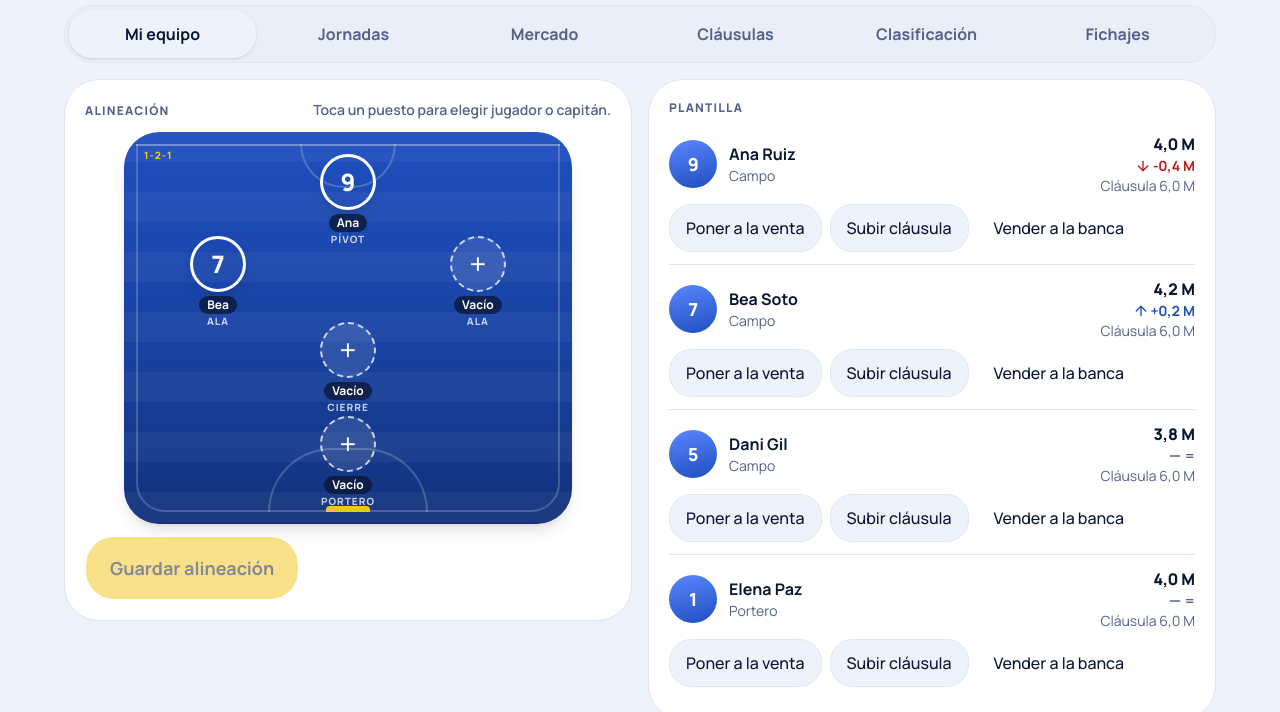
Test: Mi equipo: vender › pone a la venta con precio mínimo en millones
(page scrolled)
Click the button "Poner a la venta" below "Dani Gil" at (745, 518), box top-left (669, 494), bottom-right (822, 542)
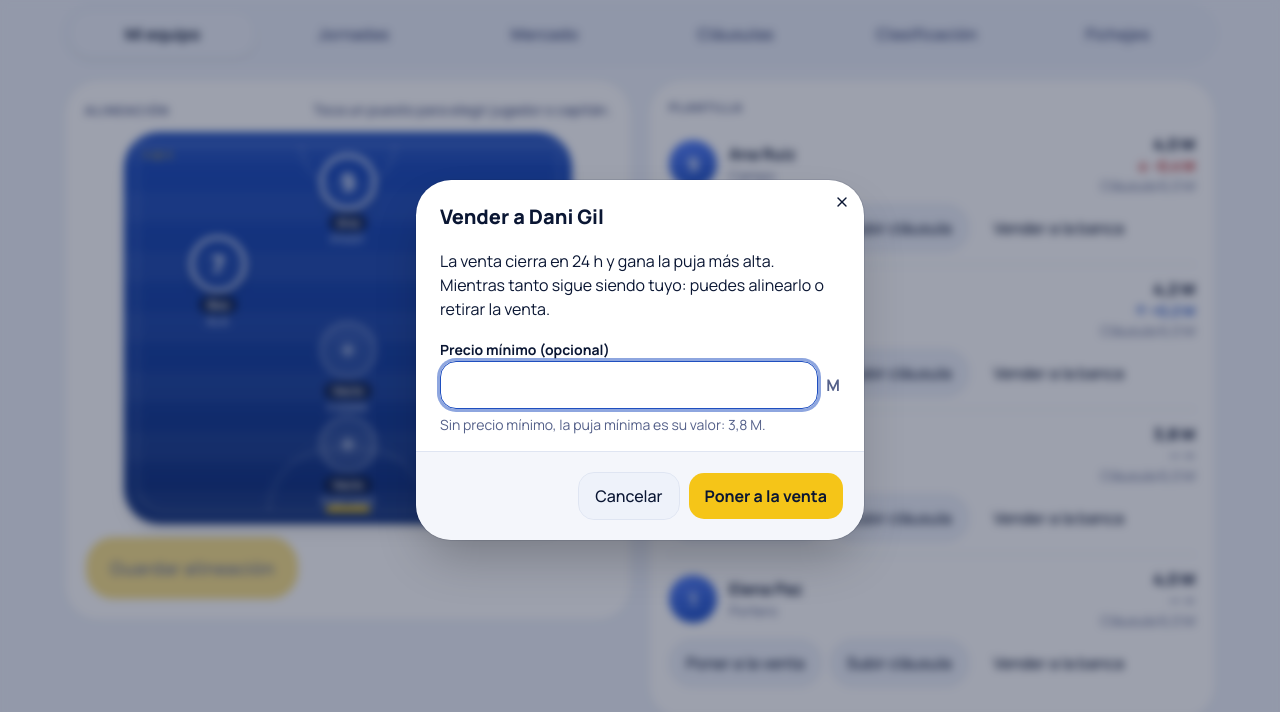
Type "5" into the field labelled "Precio mínimo (opcional)" at (629, 385), box top-left (440, 361), bottom-right (818, 409)
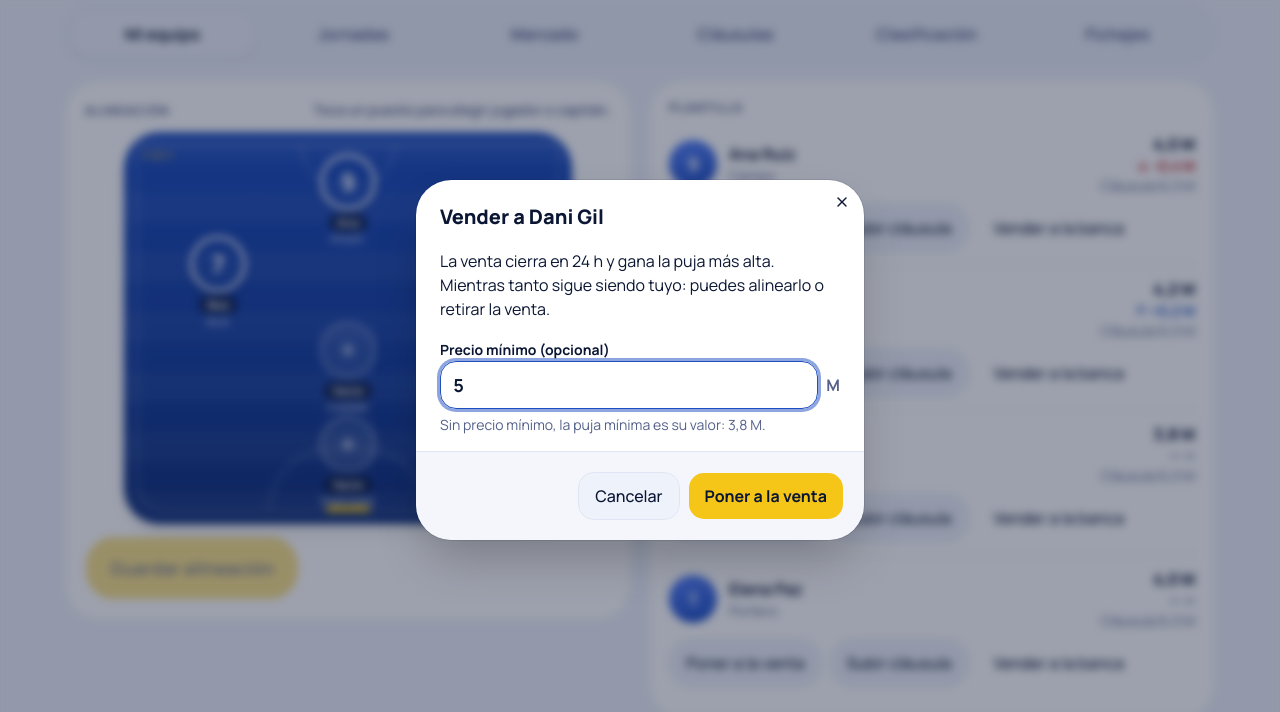
Click the button "Poner a la venta" at (766, 496), box top-left (688, 472), bottom-right (844, 520)
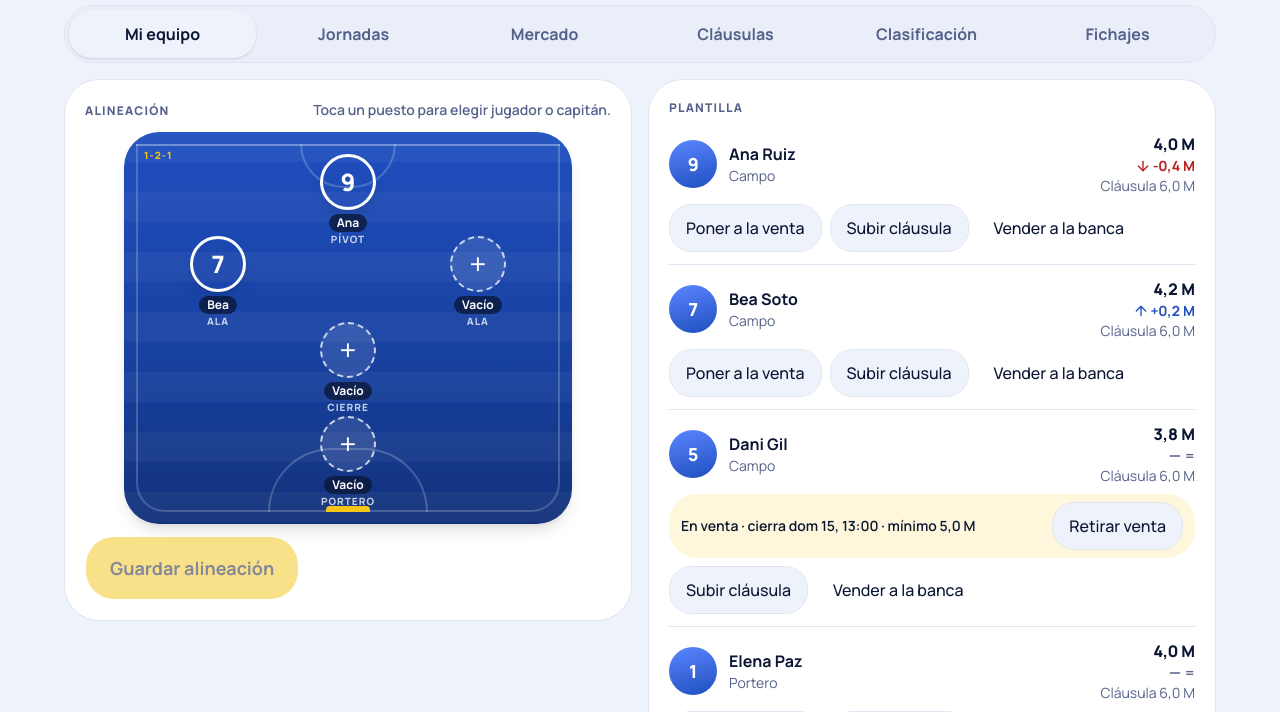
Expected: the text "En venta · cierra dom 15, 13:00 · mínimo 5,0 M" is shown, top-left (681, 516), bottom-right (976, 535)
Expected: the list item "Dani Gil" shows "mínimo 5,0 M", top-left (888, 516), bottom-right (976, 535)
